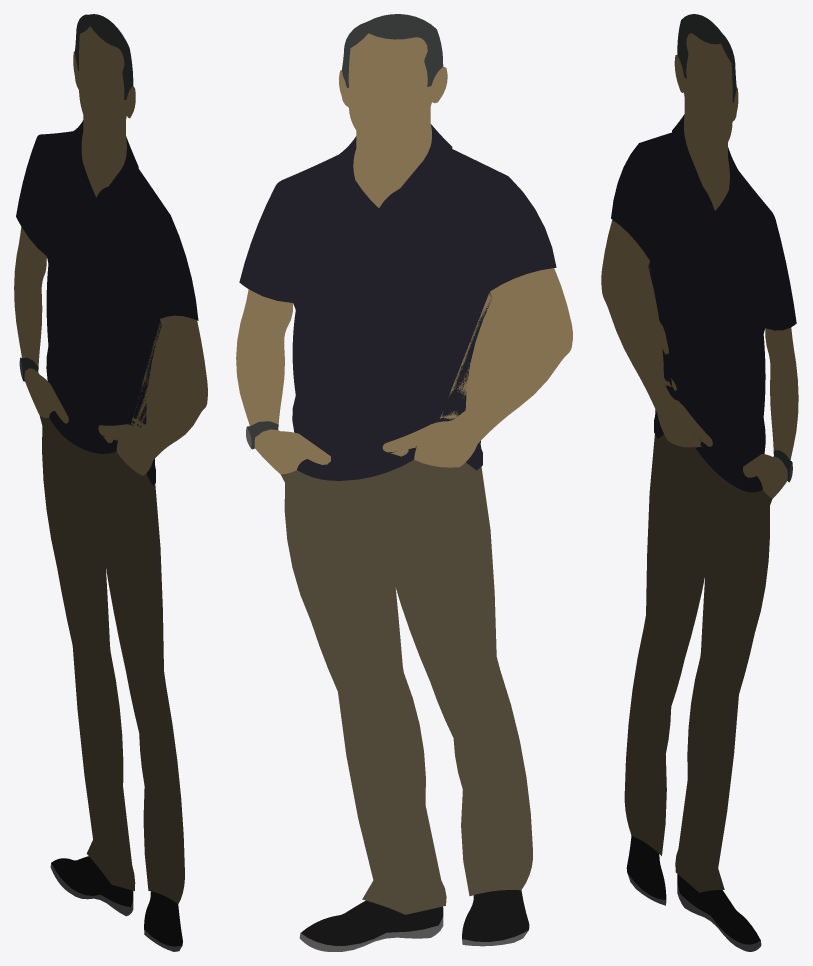
File: terreno.fbx
The picture shows the model from 3 angles, left to right: view 1: azimuth 90°, elevation 25°; view 2: azimuth 150°, elevation 25°; view 3: azimuth 270°, elevation 25°; orthographic projection. The views are drawn at different scales.
Visible parts, largest first — view 1: Chris1; view 2: Chris1; view 3: Chris1.
Boxes of the visible parts, box(x1,y1,x2,y2) form: Chris1: box(14, 14, 207, 951); Chris1: box(236, 14, 572, 951); Chris1: box(601, 14, 798, 951).
Size of what is drawn, in the model's own units: 0.4649 by 1.77 by 0.3455.
